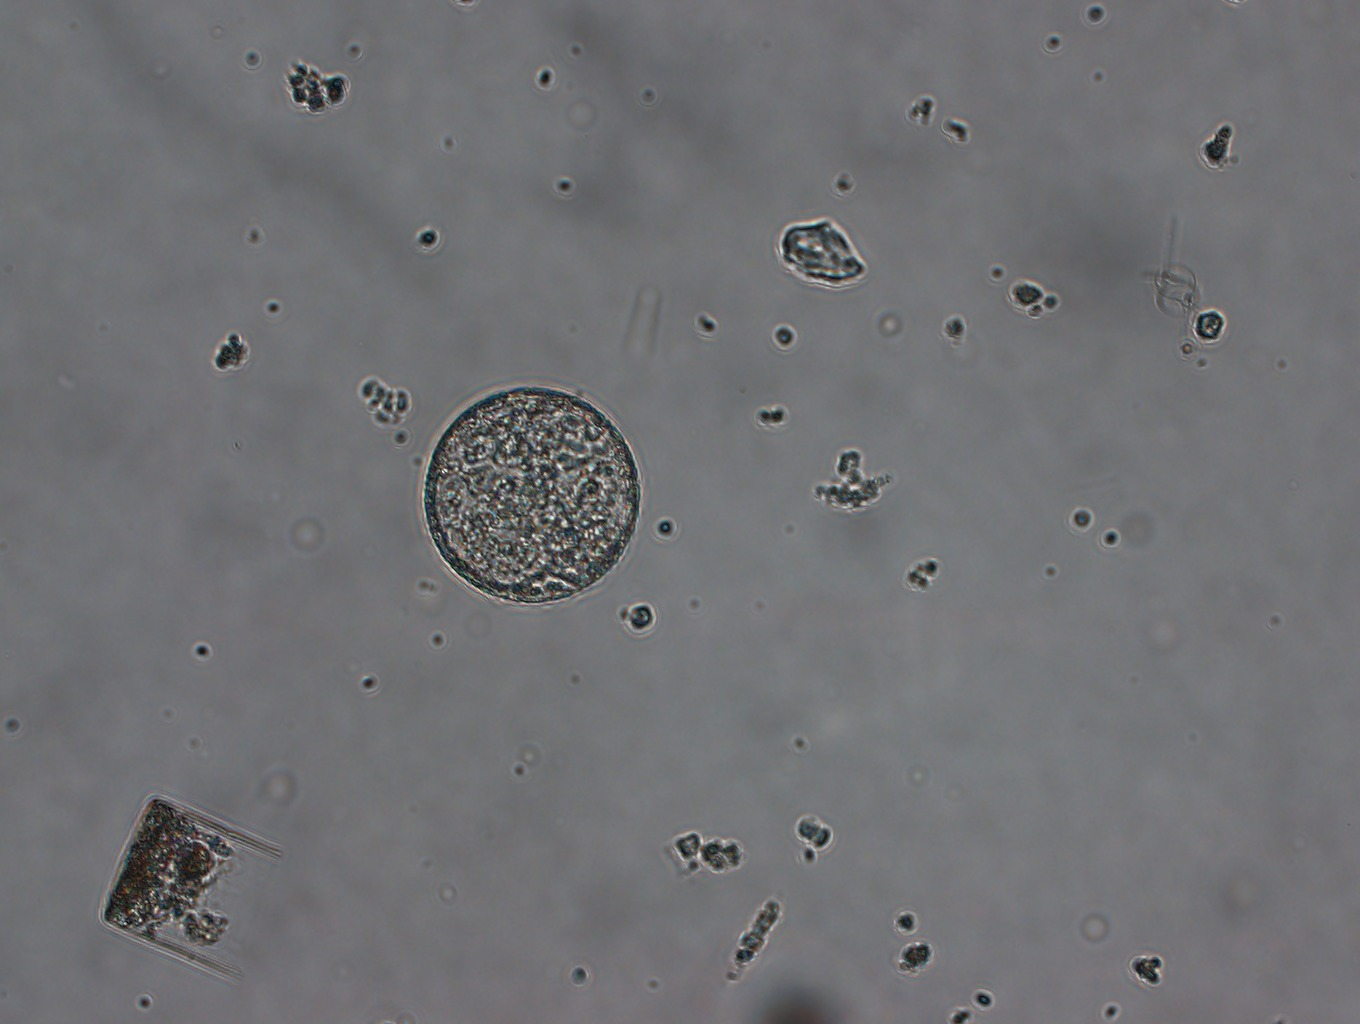coscinodiscus: (418, 379, 645, 612)
